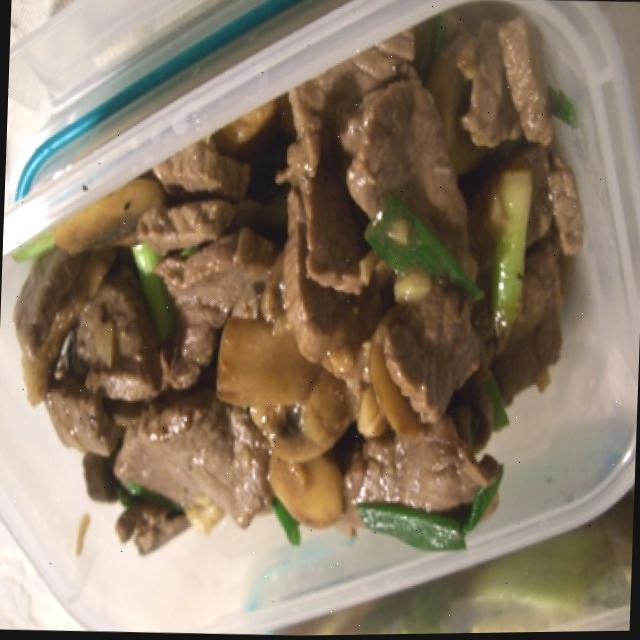牛肉菜式: (13, 0, 621, 606)
